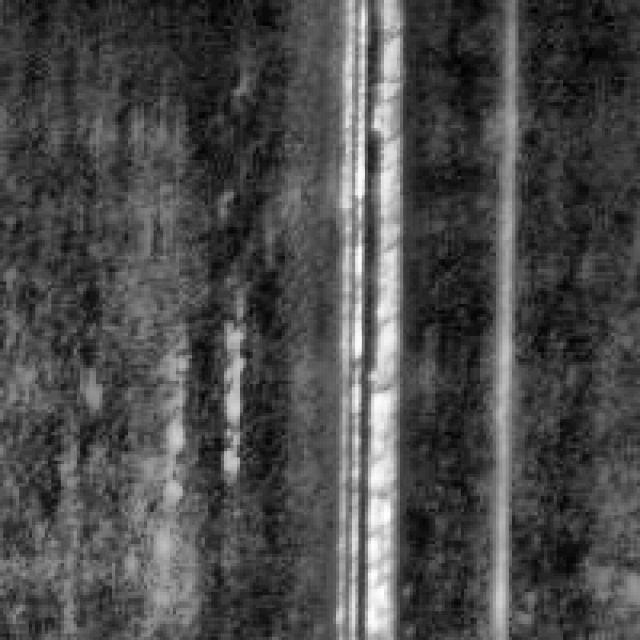Inclusion: (320, 0, 410, 634), (479, 86, 518, 634)
